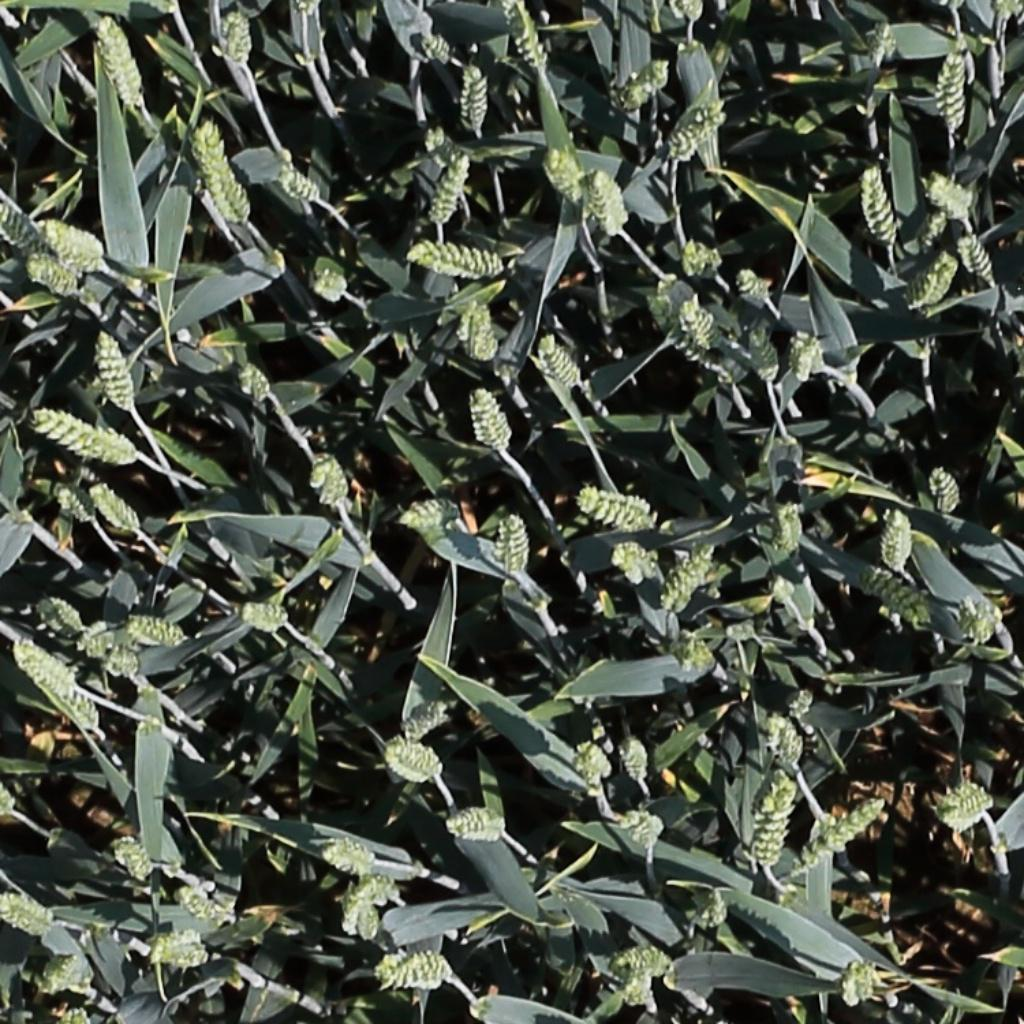0-0: (43, 593, 145, 679), (789, 798, 890, 880), (17, 649, 102, 737), (193, 116, 252, 226), (645, 290, 720, 371), (31, 408, 137, 461), (94, 10, 146, 114), (747, 771, 800, 873), (659, 539, 720, 618), (339, 870, 406, 939), (368, 946, 458, 995), (858, 566, 933, 622), (499, 0, 552, 76), (94, 323, 137, 413), (669, 98, 729, 161), (903, 247, 961, 312), (861, 157, 901, 251), (428, 146, 473, 228), (86, 477, 144, 537), (12, 640, 76, 694), (377, 729, 442, 782), (588, 162, 632, 240), (471, 380, 514, 458), (927, 774, 993, 824), (0, 197, 53, 258), (617, 55, 673, 111), (577, 488, 655, 528), (678, 292, 726, 357), (954, 225, 1002, 289), (537, 330, 585, 393), (544, 140, 589, 207), (140, 931, 211, 972), (40, 218, 105, 262), (605, 944, 682, 981), (681, 885, 742, 929), (939, 45, 968, 136), (658, 628, 715, 674), (406, 245, 506, 271), (767, 709, 806, 775), (748, 320, 785, 389), (958, 593, 1002, 651), (403, 489, 463, 531), (610, 540, 660, 588), (312, 446, 348, 512), (445, 801, 507, 839), (927, 172, 977, 219), (619, 809, 667, 857), (462, 57, 490, 139), (111, 835, 154, 888), (574, 735, 615, 790), (499, 506, 529, 581), (39, 955, 93, 996), (25, 255, 83, 293), (400, 701, 451, 744), (53, 479, 98, 527), (465, 296, 496, 365), (236, 354, 274, 410), (928, 458, 962, 520), (307, 264, 359, 304), (886, 502, 913, 577), (0, 897, 54, 933), (237, 604, 292, 639), (323, 838, 378, 873), (176, 887, 225, 925), (457, 294, 487, 356), (845, 957, 879, 1011), (776, 496, 805, 559), (414, 23, 453, 69), (622, 731, 652, 790), (872, 13, 901, 72), (224, 5, 250, 70), (791, 326, 819, 386), (124, 619, 187, 645), (681, 233, 714, 282), (278, 167, 324, 202), (735, 266, 776, 305), (618, 975, 656, 1010), (987, 0, 1024, 35), (780, 685, 815, 719), (0, 760, 19, 821), (673, 0, 709, 26), (52, 1007, 97, 1024)
